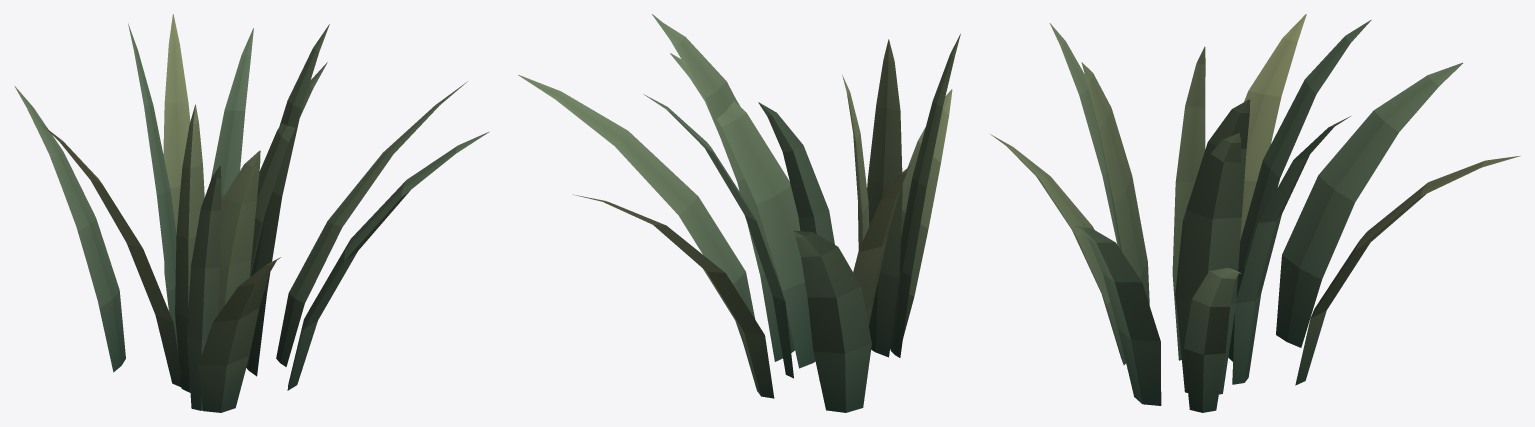
Rendered from meadow-grass-fan.glb.
3 renders of one model, left to right at view 1: azimuth 30°, elevation 25°; view 2: azimuth 150°, elevation 25°; view 3: azimuth 270°, elevation 25°, orthographic. The views are drawn at different scales.
Parts seen in each view (by area): view 1: meadow-grass-fan; view 2: meadow-grass-fan; view 3: meadow-grass-fan.
Boxes of the visible parts, <box> form: meadow-grass-fan: <box>14,14,489,412</box>; meadow-grass-fan: <box>518,14,960,412</box>; meadow-grass-fan: <box>990,14,1520,412</box>.
Size of the model in its own units: 0.5981 by 0.4395 by 0.606.
